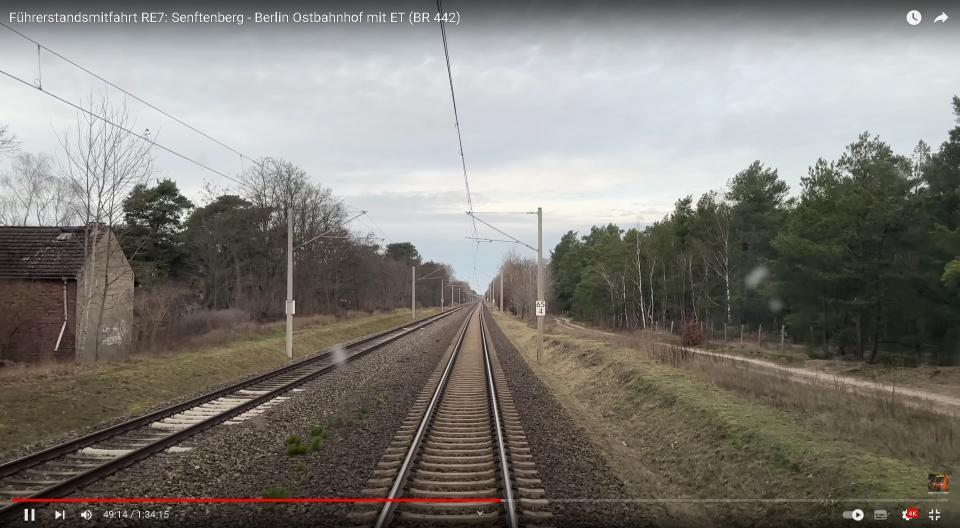Plant: (286, 426, 326, 455), (326, 416, 356, 429), (262, 487, 291, 499), (358, 407, 368, 420)
